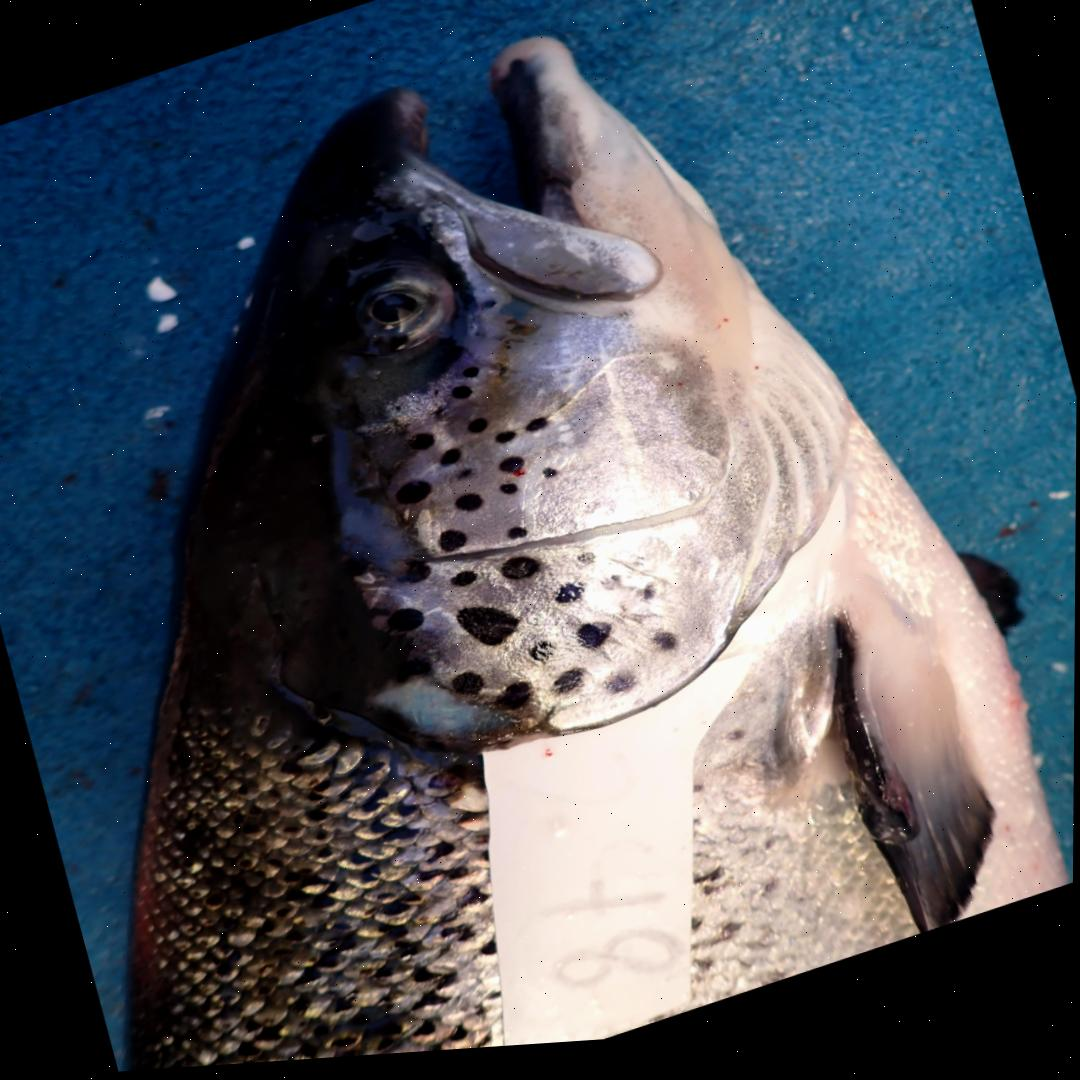spot: (458, 613, 519, 653), (496, 689, 533, 718), (388, 614, 425, 639), (396, 486, 433, 511), (502, 564, 539, 588), (577, 632, 612, 657), (452, 678, 485, 703), (554, 677, 585, 702), (403, 565, 432, 589), (439, 536, 468, 559), (605, 682, 635, 703), (555, 591, 583, 612), (455, 499, 484, 519), (653, 640, 679, 661), (499, 463, 525, 484), (408, 438, 436, 457), (530, 649, 554, 670), (452, 577, 478, 593), (640, 592, 659, 612), (441, 455, 463, 472), (525, 424, 548, 440), (452, 392, 473, 407), (602, 583, 623, 598), (468, 425, 489, 440), (495, 438, 515, 452), (456, 474, 477, 487), (508, 534, 529, 547), (499, 489, 518, 503), (577, 560, 596, 574), (462, 373, 480, 385), (543, 475, 558, 487), (434, 414, 446, 426), (483, 307, 496, 316)
